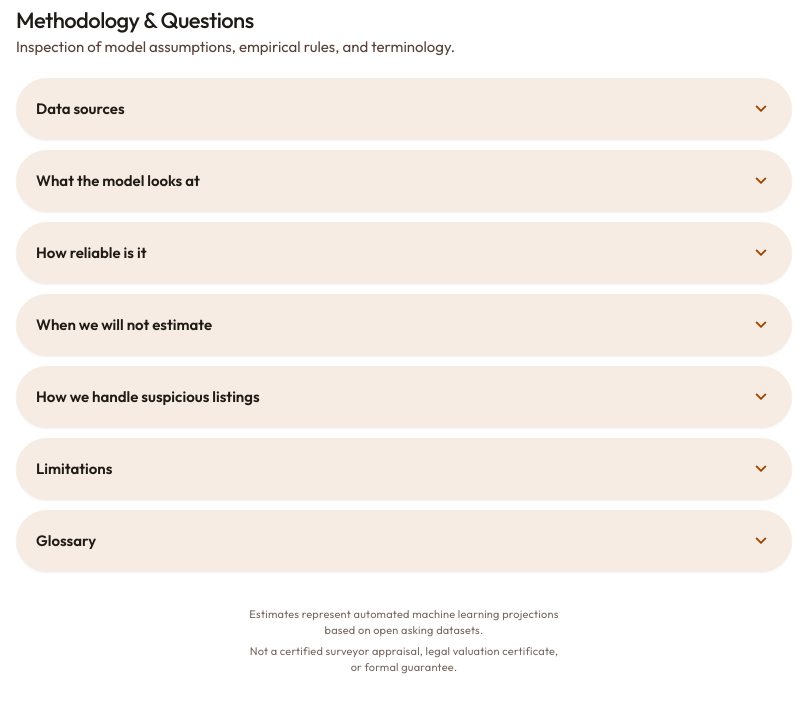
Test case: P8b (f): pipeline + FAQ copy is data-driven › the anomalies FAQ interpolates the flag window from flag_definition
The width and height of the screenshot is (809, 710).
(page scrolled)
Click the button "How we handle suspicious listings": {"x": 148, "y": 396} [16, 366, 792, 428]
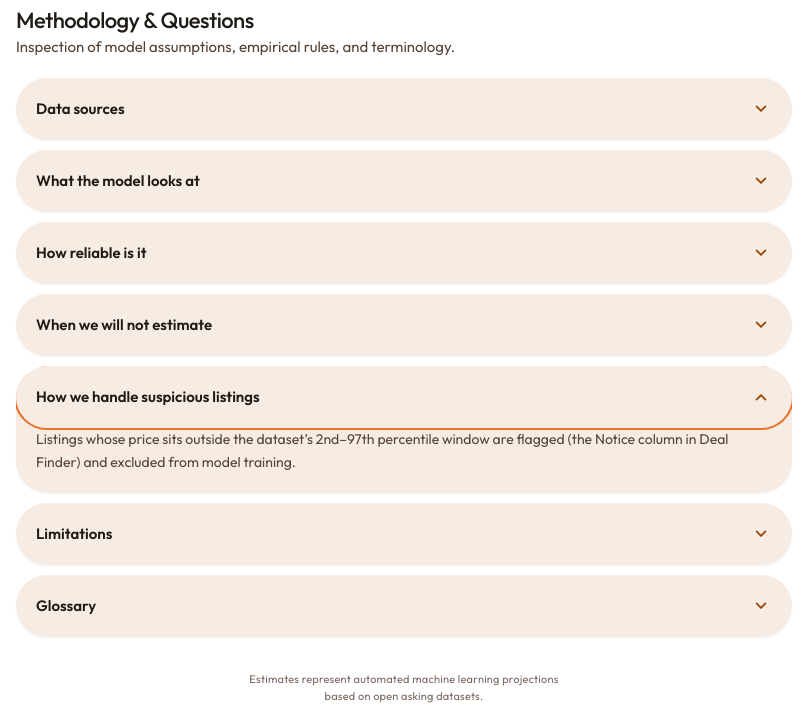
Result: the text "outside the dataset’s 2nd–97th percentile window" is shown at [36, 430, 728, 471]
